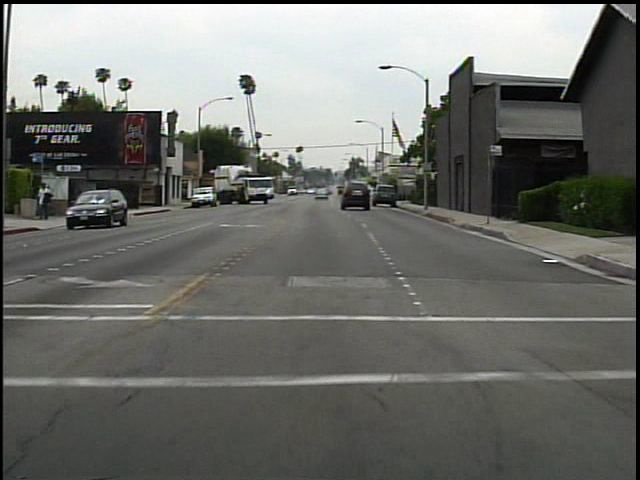person: (36, 180, 58, 224)
